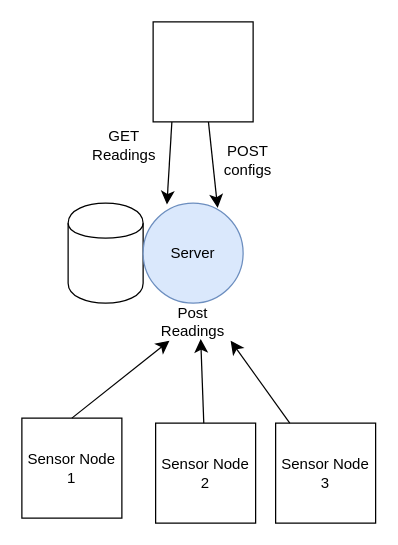
Image size: 398x545. Some labels were removed from this diagram. The shapes that lost their labels are listed below. From the top down, each one's centre as x and y in pixels, then its label:
the point at 202,71: Web App
the point at 105,252: DB
